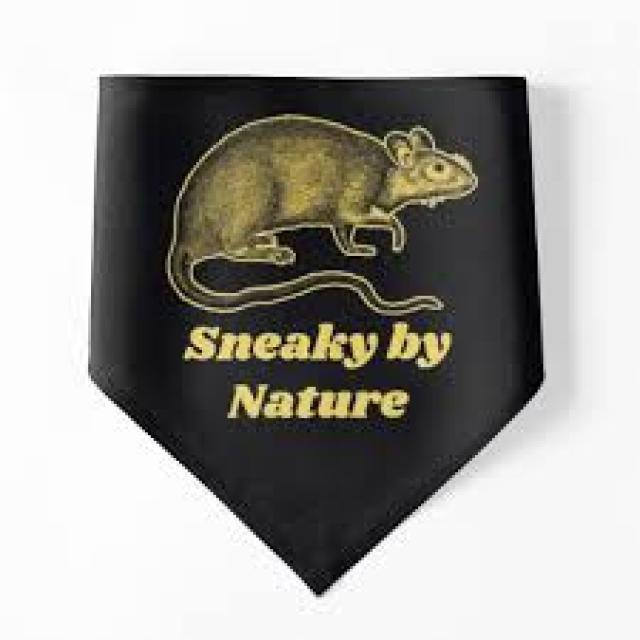Rat: (153, 94, 500, 292)
